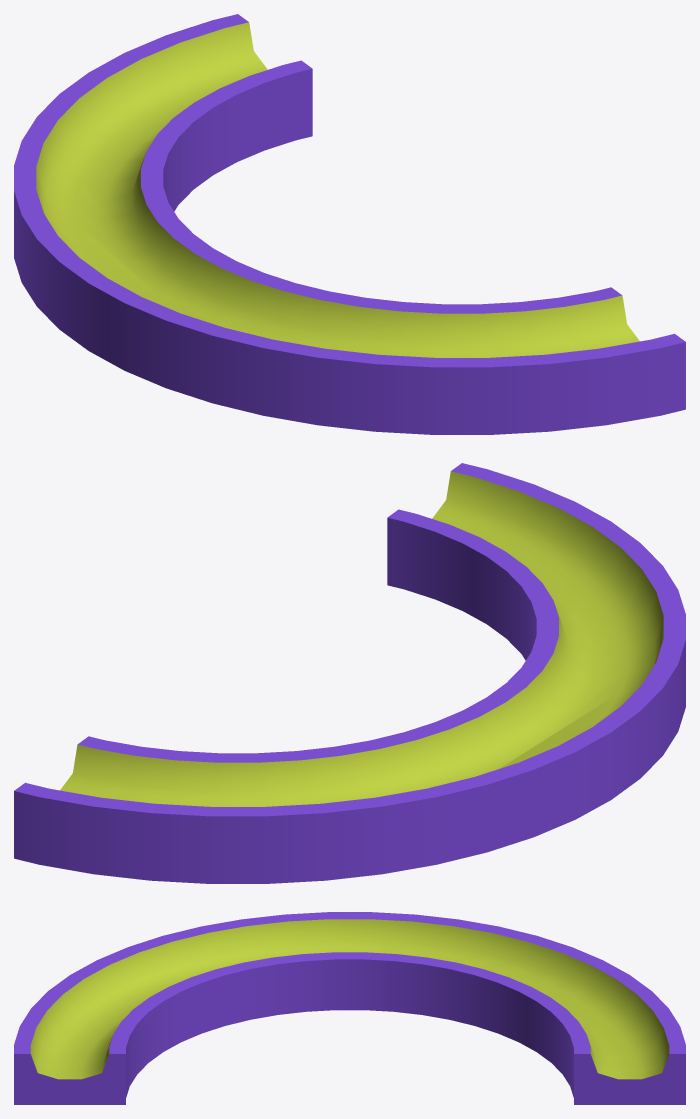
File: bend_large-col.dae
3 renders of one model, top to bottom at view 1: azimuth 30°, elevation 25°; view 2: azimuth 150°, elevation 25°; view 3: azimuth 270°, elevation 25°, orthographic. The views are drawn at different scales.
Parts seen in each view (by area): view 1: bend_large-col; view 2: bend_large-col; view 3: bend_large-col.
Part boxes in pixels (x1,y1,x2,y2): bend_large-col: (14, 14, 685, 434); bend_large-col: (14, 463, 685, 883); bend_large-col: (14, 912, 685, 1104).
Bounding box in the file's own units: 3 × 6 × 0.5.
